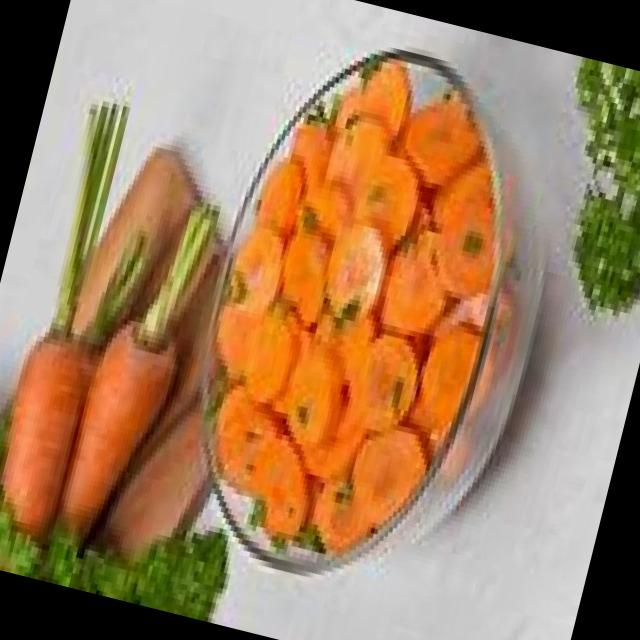carrot: (50, 314, 191, 558), (0, 311, 101, 544)
